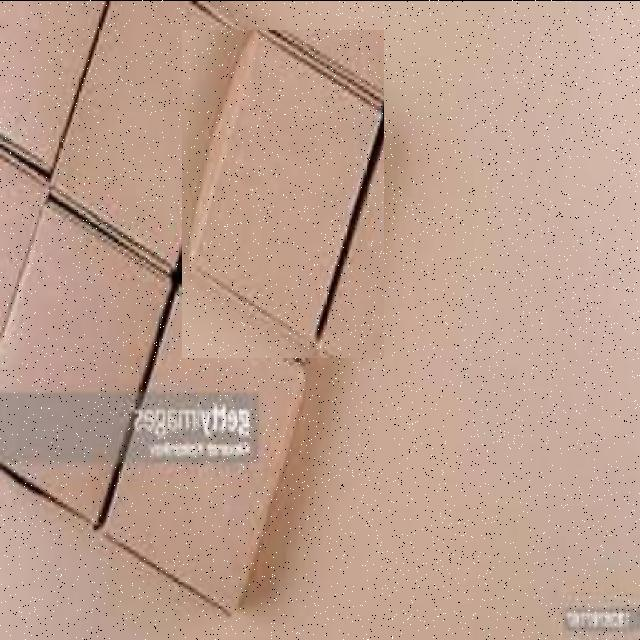normal: (182, 29, 384, 357)
